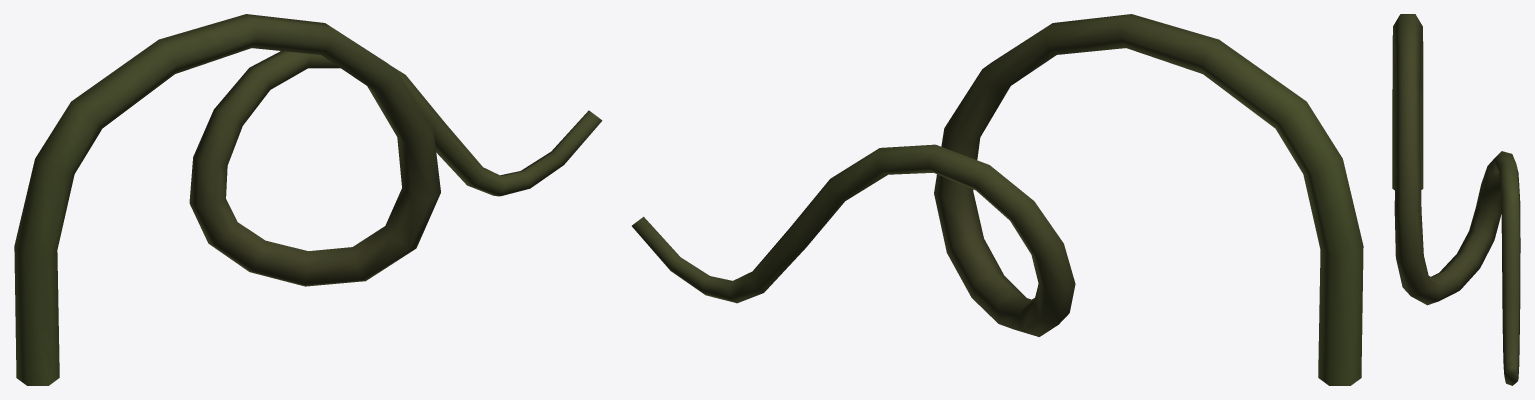
File: Pumpkin_Watermelon_Plant.fbx
The picture shows the model from 3 angles, left to right: view 1: azimuth 30°, elevation 25°; view 2: azimuth 150°, elevation 25°; view 3: azimuth 270°, elevation 25°; orthographic projection. The views are drawn at different scales.
Visible parts, largest first — view 1: Pumpkin_Watermelon_Plant; view 2: Pumpkin_Watermelon_Plant; view 3: Pumpkin_Watermelon_Plant.
Boxes of the visible parts, x1,y1,x2,y2 form: Pumpkin_Watermelon_Plant: (14,14,602,385); Pumpkin_Watermelon_Plant: (632,14,1363,385); Pumpkin_Watermelon_Plant: (1392,14,1520,385).
Size of the model in its own units: 152 by 69.29 by 36.13.
